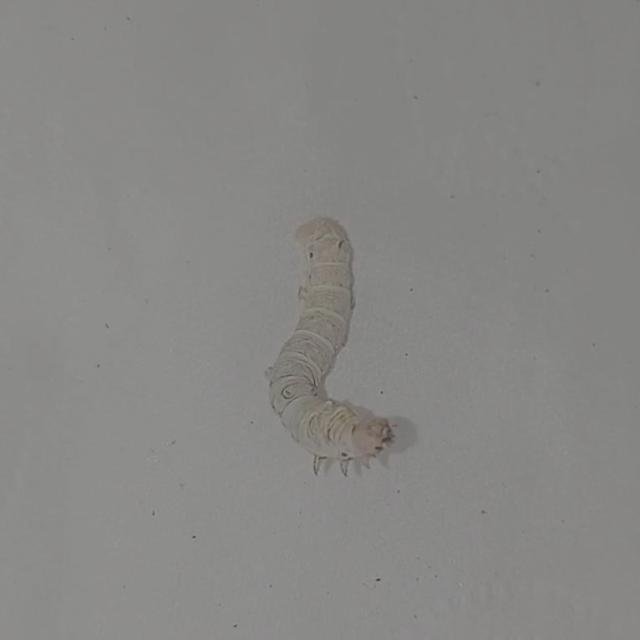Healthy: (255, 208, 406, 481)
